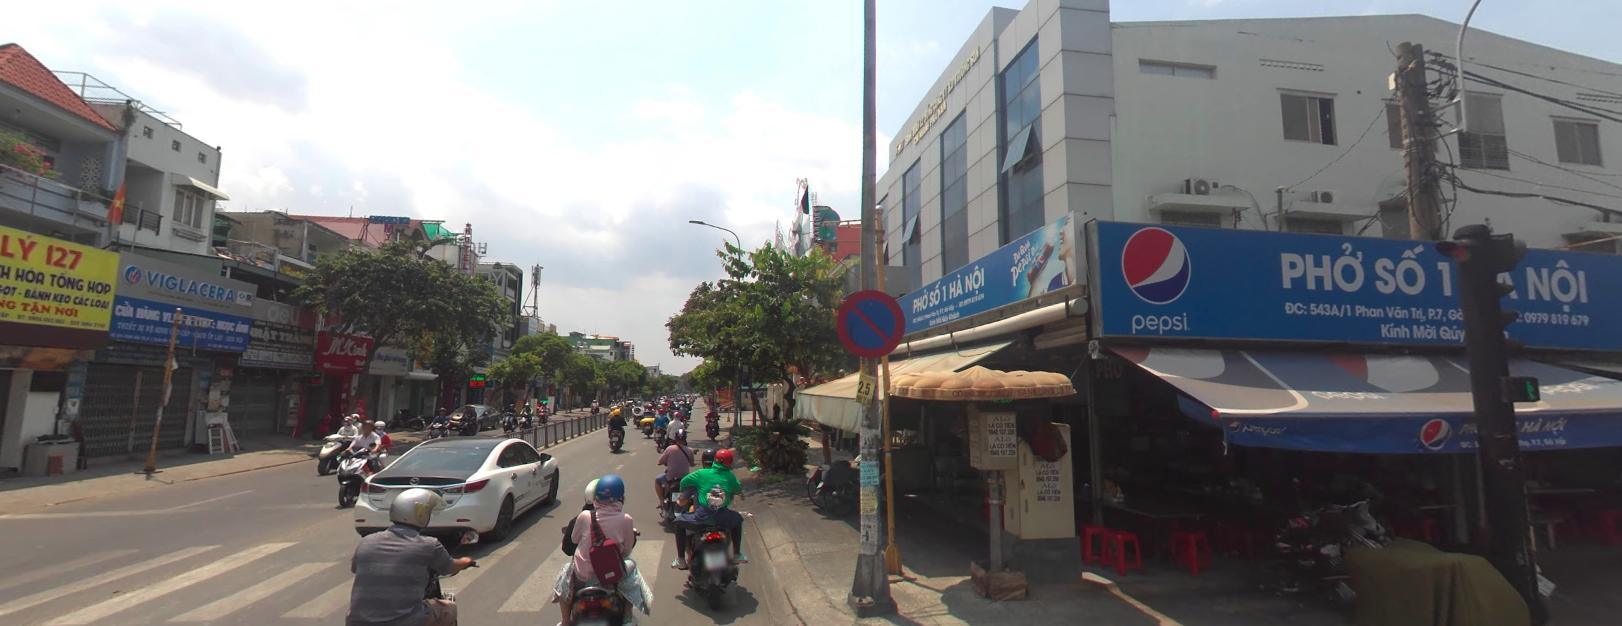Cam dung va do: (836, 286, 904, 355)
